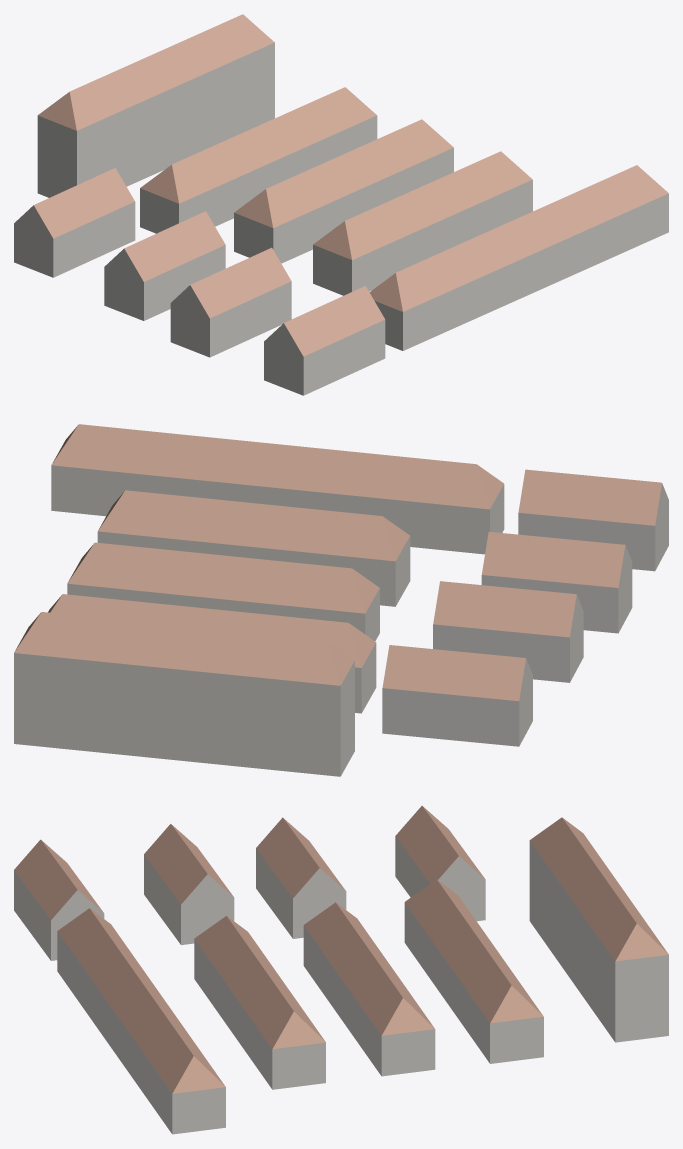
File: gridID_28.dae
3 renders of one model, top to bottom at view 1: azimuth 30°, elevation 25°; view 2: azimuth 150°, elevation 25°; view 3: azimuth 270°, elevation 25°, orthographic. The views are drawn at different scales.
Visible parts, largest first — view 1: model_gridID_28_w376378577, model_gridID_28_w376378537, model_gridID_28_w376378538, model_gridID_28_w376378591_001, model_gridID_28_w376378594, model_gridID_28_w376378557, model_gridID_28_w376378543, model_gridID_28_w376378551, model_gridID_28_w376378568; view 2: model_gridID_28_w376378577, model_gridID_28_w376378537, model_gridID_28_w376378538, model_gridID_28_w376378594, model_gridID_28_w376378557, model_gridID_28_w376378568, model_gridID_28_w376378543, model_gridID_28_w376378551, model_gridID_28_w376378591_001; view 3: model_gridID_28_w376378577, model_gridID_28_w376378537, model_gridID_28_w376378591_001, model_gridID_28_w376378594, model_gridID_28_w376378538, model_gridID_28_w376378551, model_gridID_28_w376378568, model_gridID_28_w376378557, model_gridID_28_w376378543.
Part boxes in pixels (x1,y1,x2,y2): model_gridID_28_w376378577: (37,14,274,197); model_gridID_28_w376378537: (369,165,668,350); model_gridID_28_w376378538: (313,151,532,295); model_gridID_28_w376378591_001: (140,87,377,233); model_gridID_28_w376378594: (234,119,453,263); model_gridID_28_w376378557: (14,168,135,277); model_gridID_28_w376378543: (264,286,385,395); model_gridID_28_w376378551: (170,247,291,357); model_gridID_28_w376378568: (104,211,225,320); model_gridID_28_w376378577: (14,612,354,776); model_gridID_28_w376378537: (51,424,504,554); model_gridID_28_w376378538: (97,490,410,606); model_gridID_28_w376378594: (67,542,379,640); model_gridID_28_w376378557: (382,645,532,746); model_gridID_28_w376378568: (433,581,583,682); model_gridID_28_w376378543: (518,469,668,571); model_gridID_28_w376378551: (481,531,632,633); model_gridID_28_w376378591_001: (48,594,376,713); model_gridID_28_w376378577: (529,817,668,1042); model_gridID_28_w376378537: (57,908,225,1134); model_gridID_28_w376378591_001: (404,879,543,1063); model_gridID_28_w376378594: (303,902,435,1076); model_gridID_28_w376378538: (194,916,325,1089); model_gridID_28_w376378551: (144,824,234,945); model_gridID_28_w376378568: (256,817,346,938); model_gridID_28_w376378557: (395,806,485,921); model_gridID_28_w376378543: (14,839,104,960).
Bounding box in the file's own units: 105 × 110 × 20.
